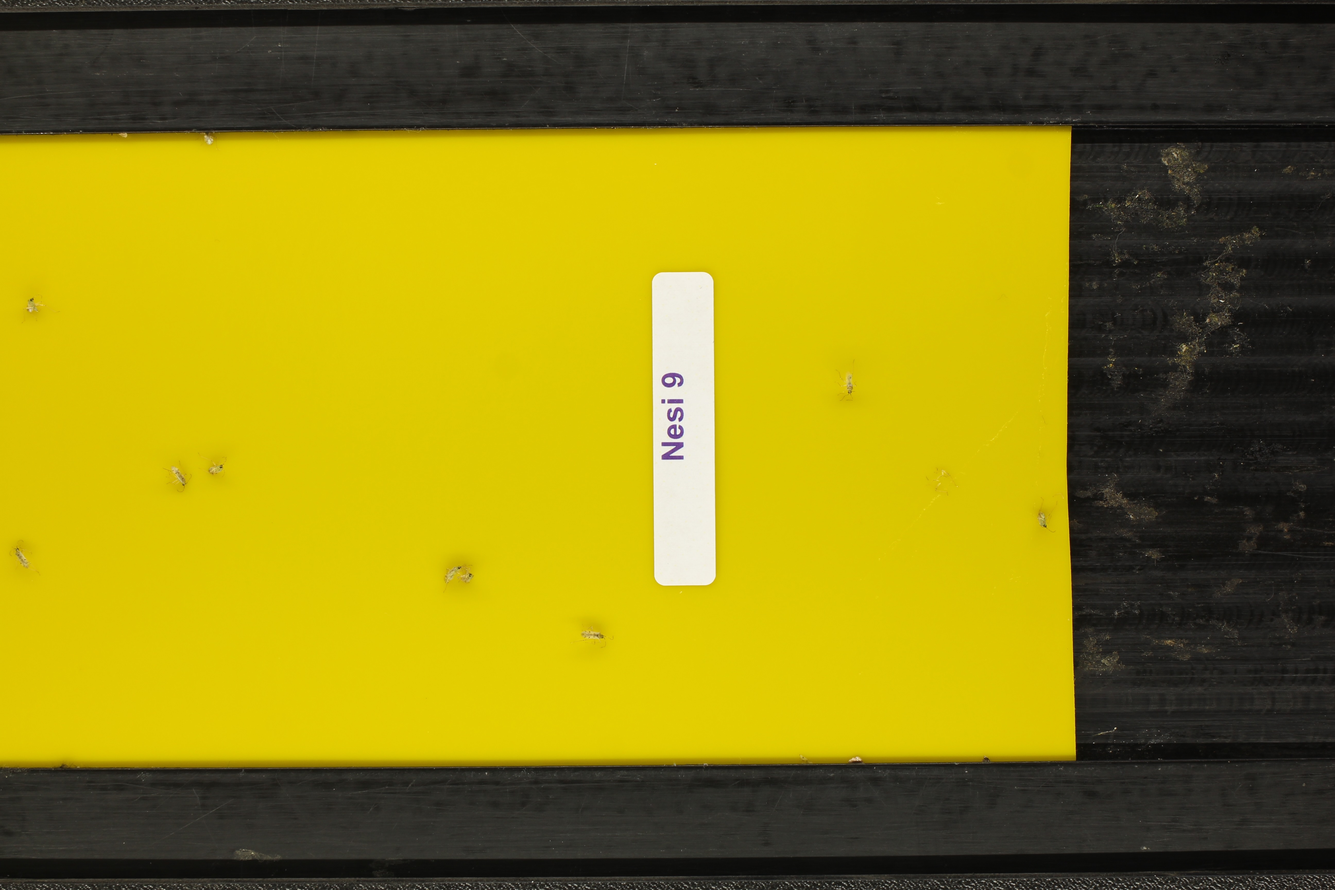NC: (2, 533, 45, 582), (567, 621, 619, 651), (159, 458, 197, 498), (826, 359, 860, 402), (194, 452, 233, 483), (22, 293, 48, 321), (1034, 503, 1057, 533), (445, 559, 463, 592), (458, 569, 481, 589)
